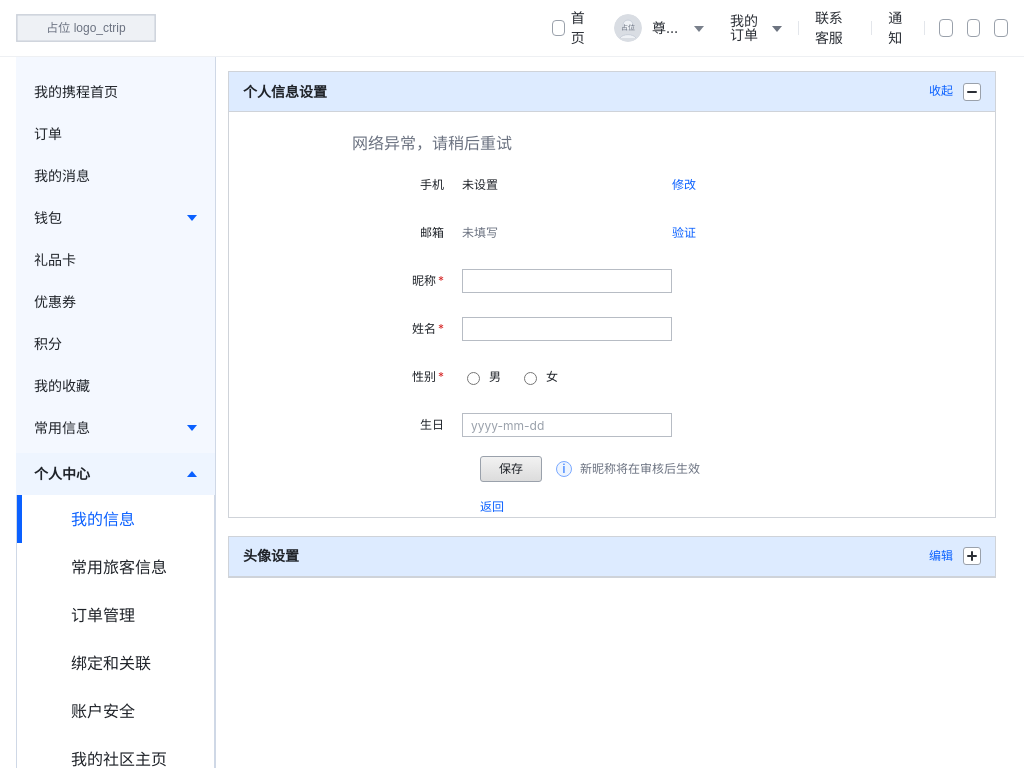
Test: 个人中心 - 个人信息编辑页 场景用例 › Scenario 3.1.5: 必填项缺失时不允许保存并提示原因
The image size is (1024, 768).
What coordinates should you click on to do the following:
click the button "保存"
I would click on:
 (511, 469)
Its box is [480, 456, 542, 482].
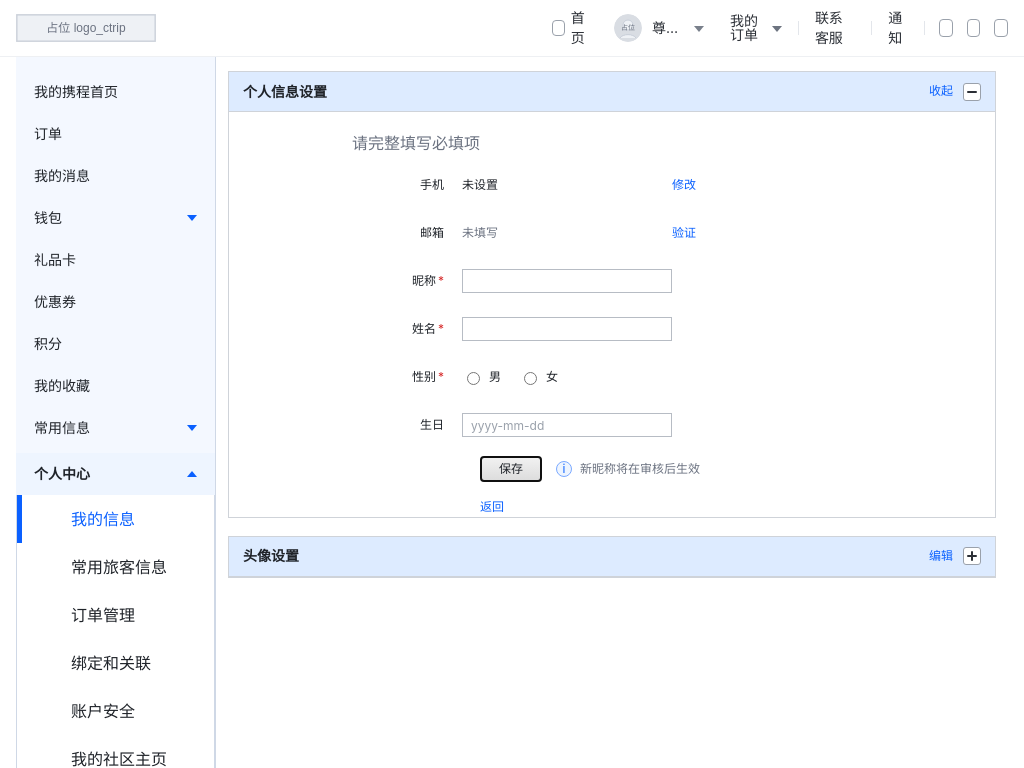
Now the text "请完整填写必填项" is shown, box [352, 133, 480, 153]
